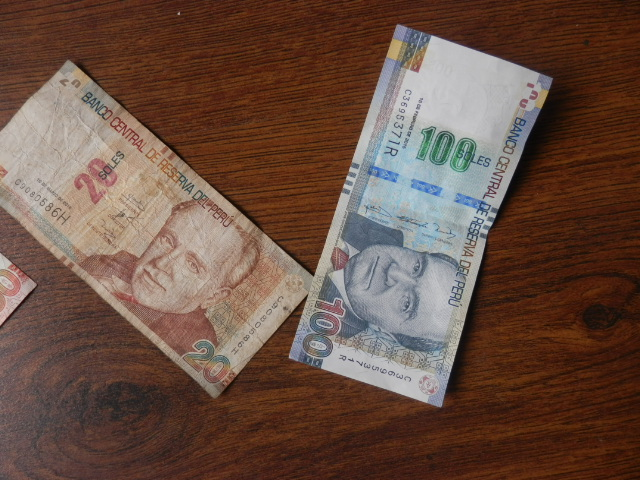B100: (313, 21, 565, 423)
B20: (2, 59, 310, 396)
